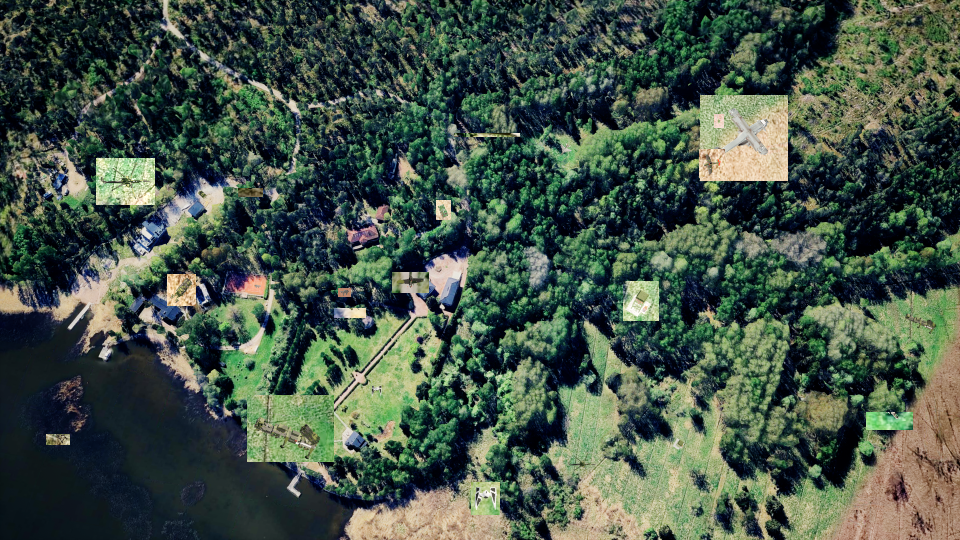condor: (700, 95, 788, 181)
hangar: (454, 133, 520, 137)
helicopter: (96, 158, 155, 205)
jammer: (436, 200, 451, 220)
jet_plane: (866, 412, 913, 430)
large_launcher: (247, 395, 334, 462)
large_tower: (46, 434, 70, 445)
medium_launcher: (238, 188, 263, 197)
medium_plane: (392, 272, 429, 293)
mine_roller: (167, 274, 196, 306)
small_launcher: (714, 114, 724, 128)
small_plane: (699, 149, 725, 178)
small_tower: (623, 281, 659, 321)
spacecraft: (471, 482, 500, 515)
ta-ta: (338, 288, 351, 297)
tank: (334, 308, 366, 318)
